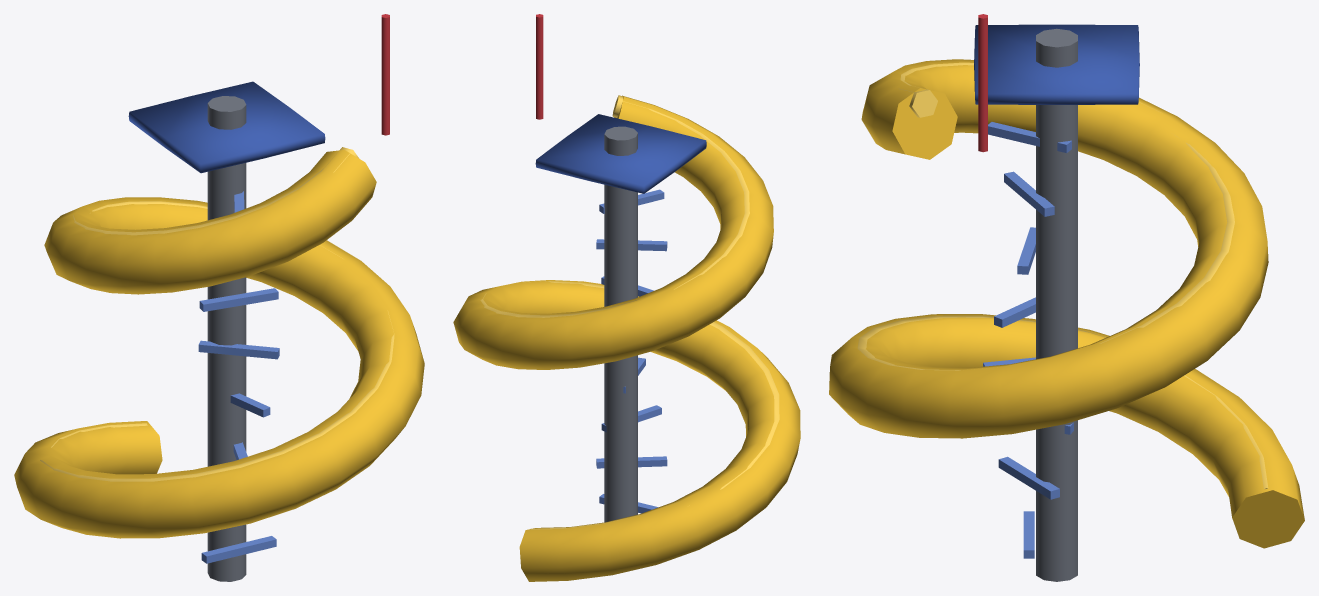
Rendered from slide_spiral.glb.
3 renders of one model, left to right at view 1: azimuth 30°, elevation 25°; view 2: azimuth 150°, elevation 25°; view 3: azimuth 270°, elevation 25°, orthographic. The views are drawn at different scales.
Parts seen in each view (by area): view 1: root; view 2: root; view 3: root.
Boxes of the visible parts, bbox=[...] form: root: bbox=[14, 14, 424, 581]; root: bbox=[453, 14, 800, 581]; root: bbox=[829, 14, 1304, 581].
Bounding box in the file's own units: 2.5 × 3.75 × 2.58.
